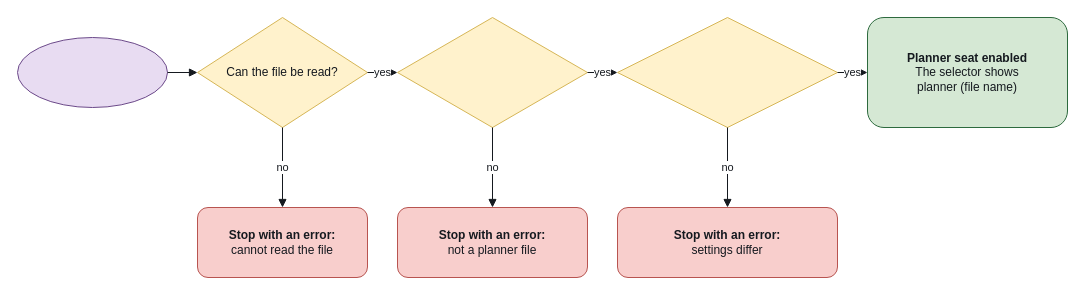
Image size: 1085x295. Some labels were removed from this diagram. The shapes that lost their labels are listed below. From the top down, each one's box as (x1, y1, x2, y2) in pixels, then its label:
(16, 36, 168, 108): serve --planner FILE
(396, 16, 588, 128): Is it a planner file with the right layout?
(616, 16, 838, 128): Do its decision interval, speed and activation match the arena?
